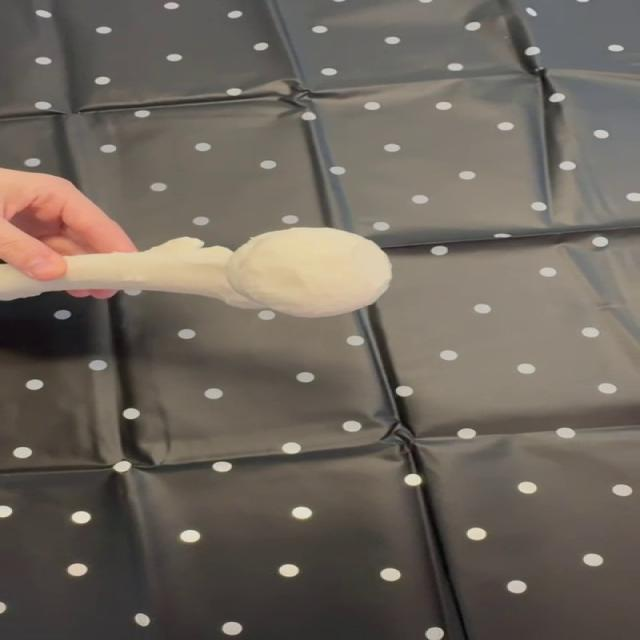bones: (0, 228, 391, 318)
